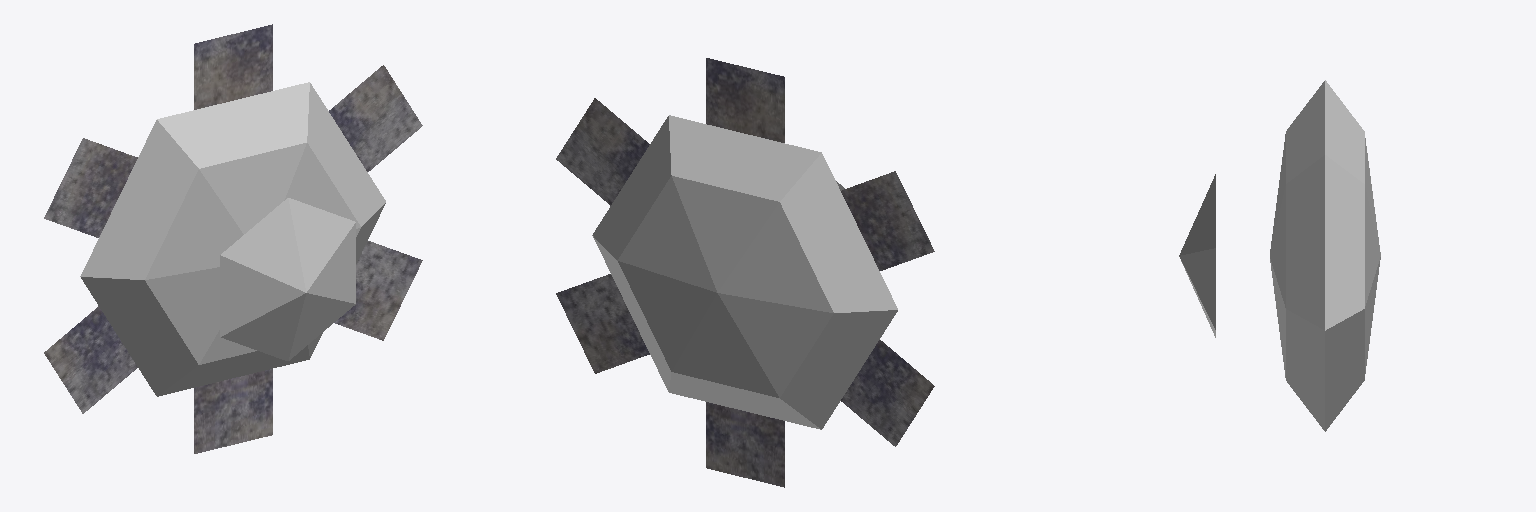
The picture shows the model from 3 angles: view 1: azimuth 30°, elevation 25°; view 2: azimuth 150°, elevation 25°; view 3: azimuth 270°, elevation 25°; orthographic projection.
Visible parts, largest first — view 1: Plane; view 2: Plane; view 3: Plane.
Part boxes in pixels (left/top/right/bottom): Plane: left=44, top=24, right=422, bottom=453; Plane: left=556, top=58, right=934, bottom=487; Plane: left=1179, top=80, right=1380, bottom=431.
Size of the model in its own units: 1.2 by 1.24 by 0.5524.
Materials: 2 (1 with a texture image).